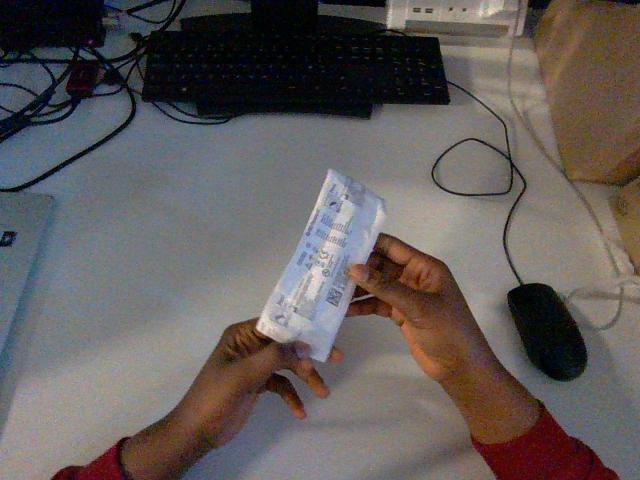syringe: (257, 169, 385, 361)
